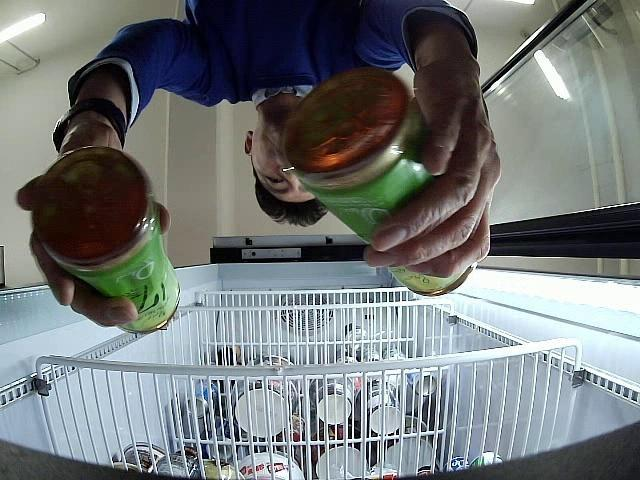19_17cha: (282, 70, 476, 298), (34, 147, 178, 334)
